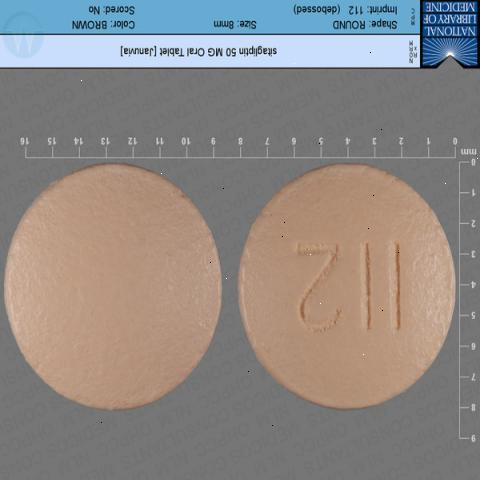Pill: (227, 138, 462, 444), (3, 143, 228, 441)
